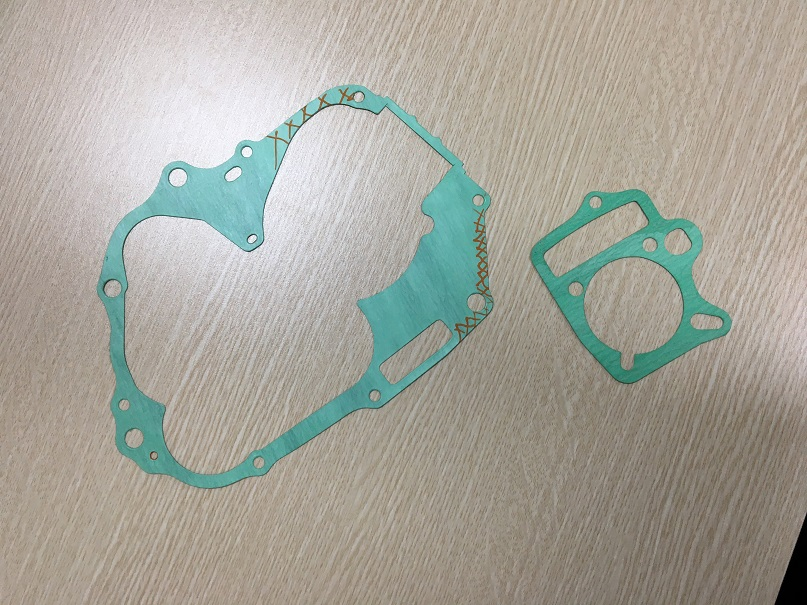type3: (75, 81, 504, 498)
type4: (527, 182, 734, 397)
